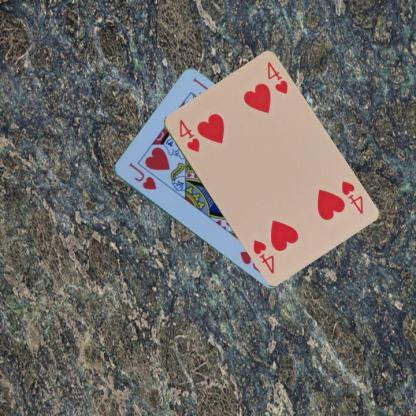4h: (338, 178, 365, 215), (176, 116, 201, 154)
Jh: (126, 160, 158, 192)
